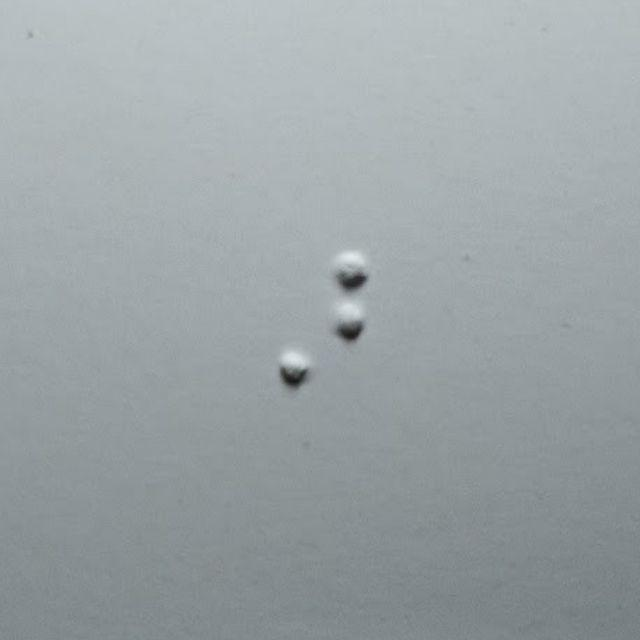ar: (278, 252, 368, 392)
